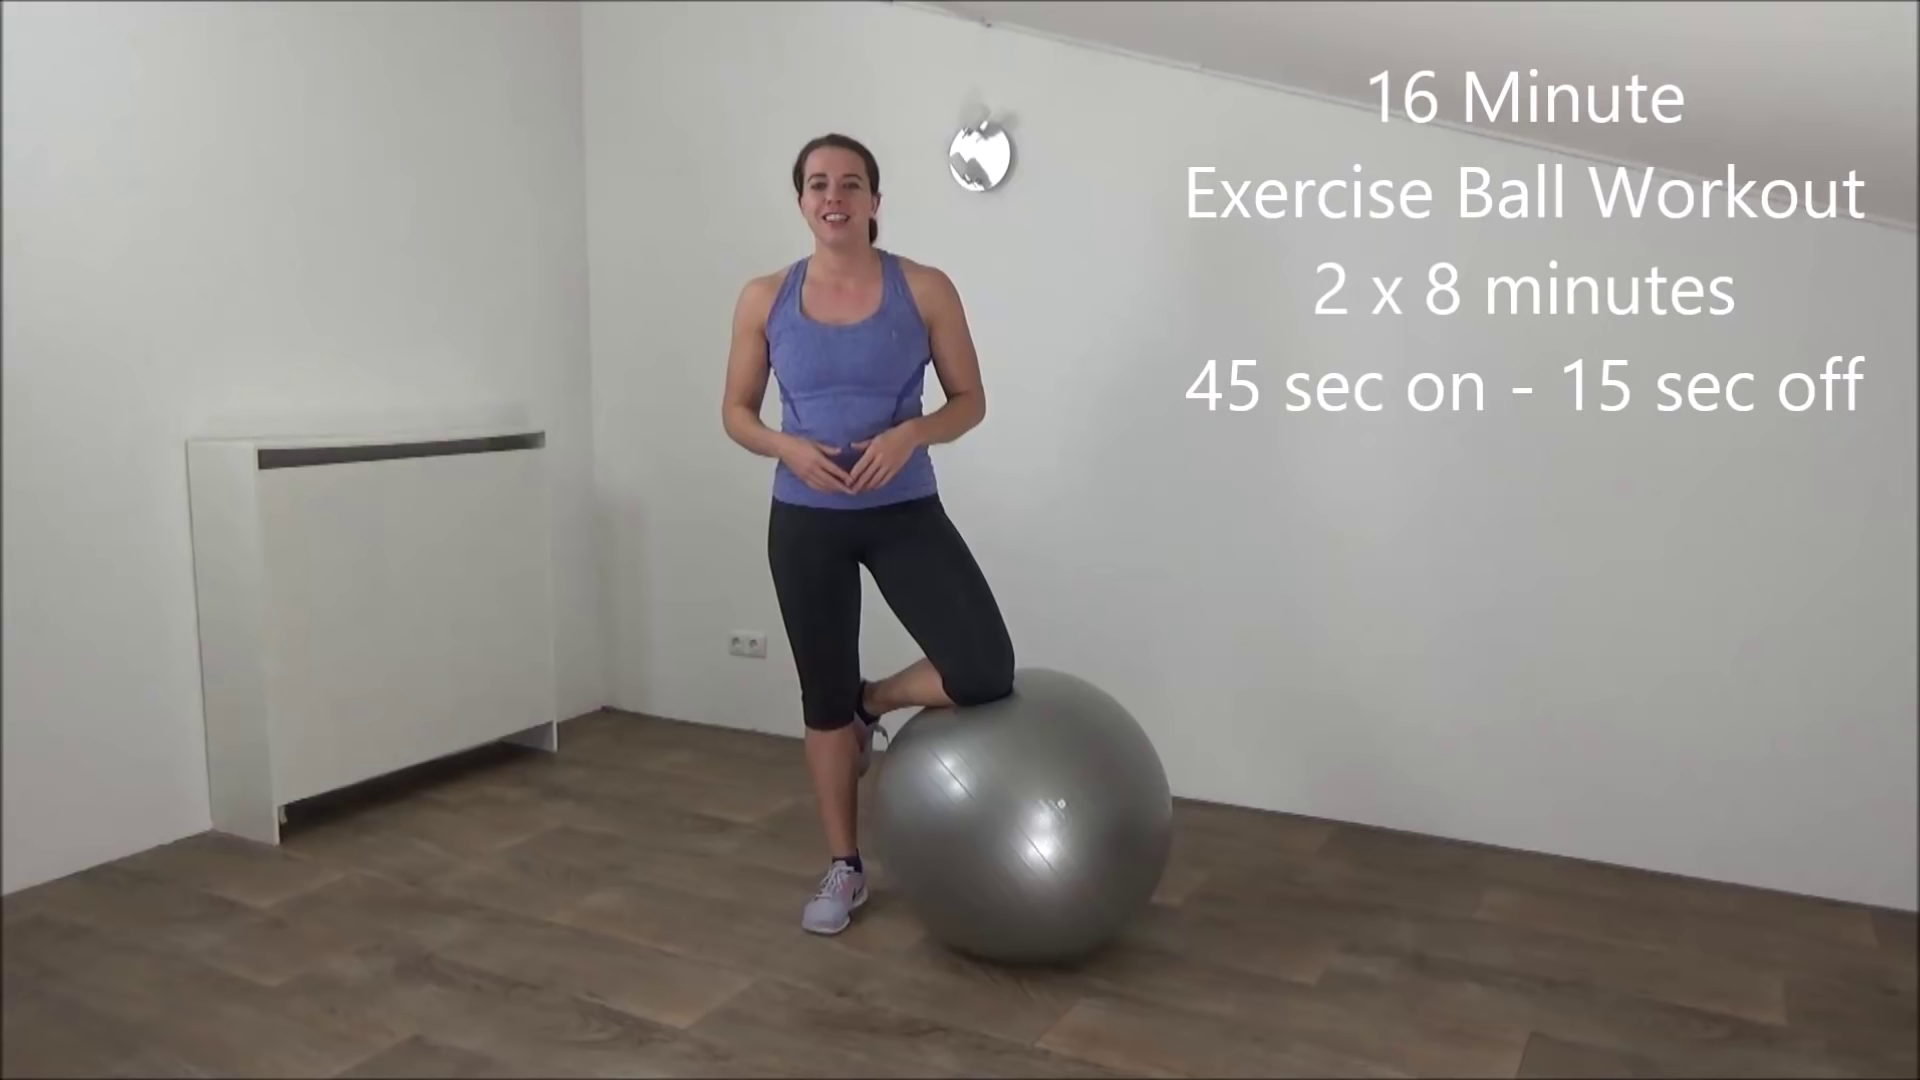yogaball: (841, 654, 1207, 984)
